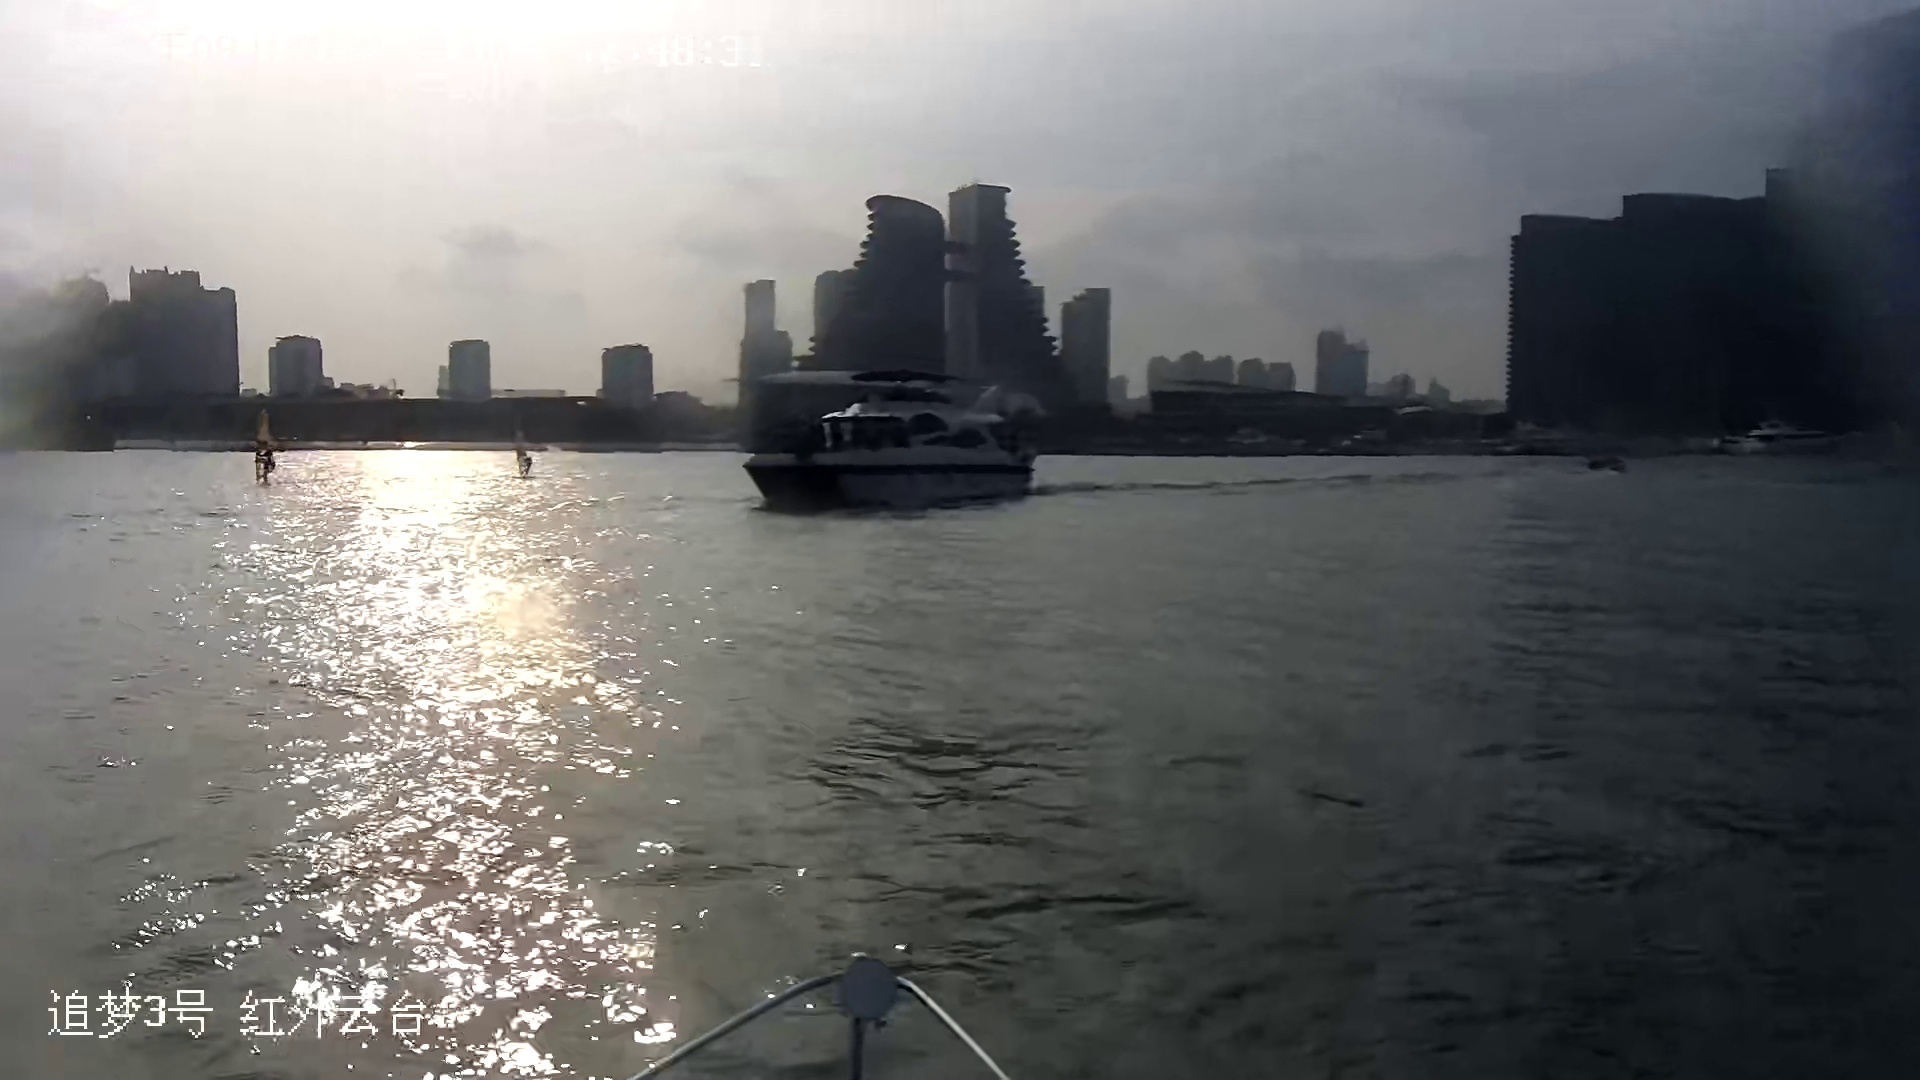barrier: (738, 372, 1040, 508), (1714, 423, 1838, 454), (243, 402, 280, 480), (516, 433, 531, 476)
coast: (7, 158, 1920, 475)
